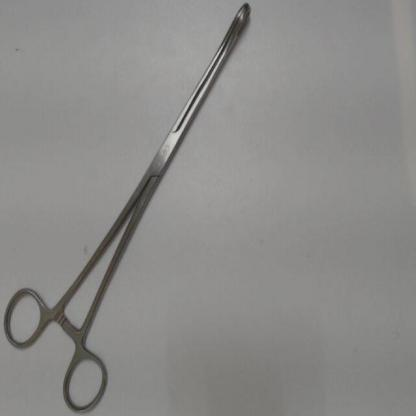Sponge Forceps: (0, 2, 254, 415)
